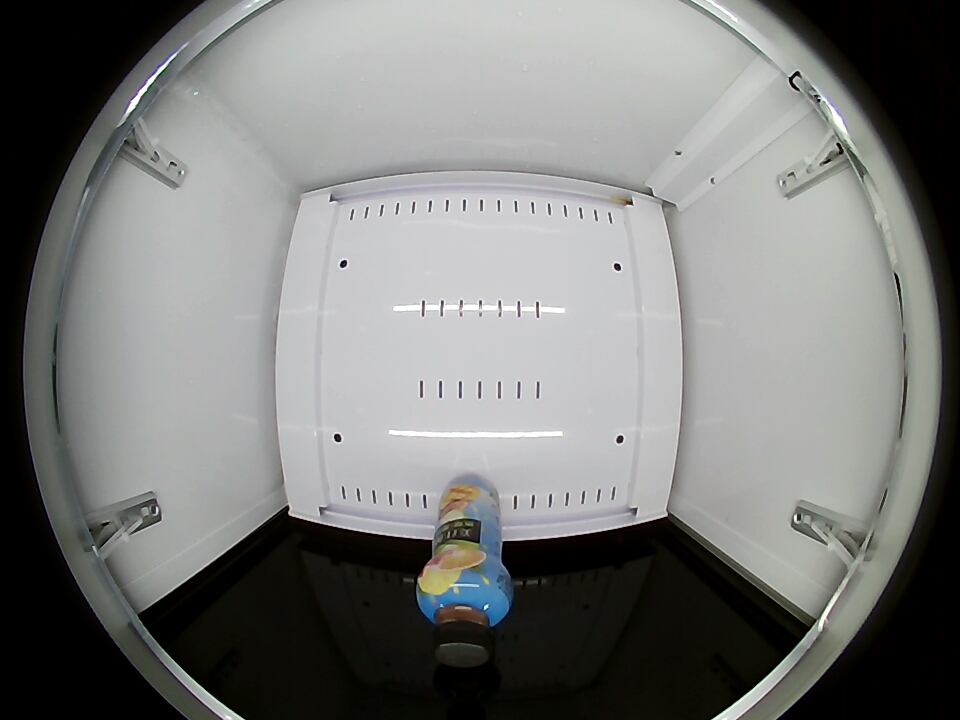guolicheng2: (418, 559, 513, 667)
